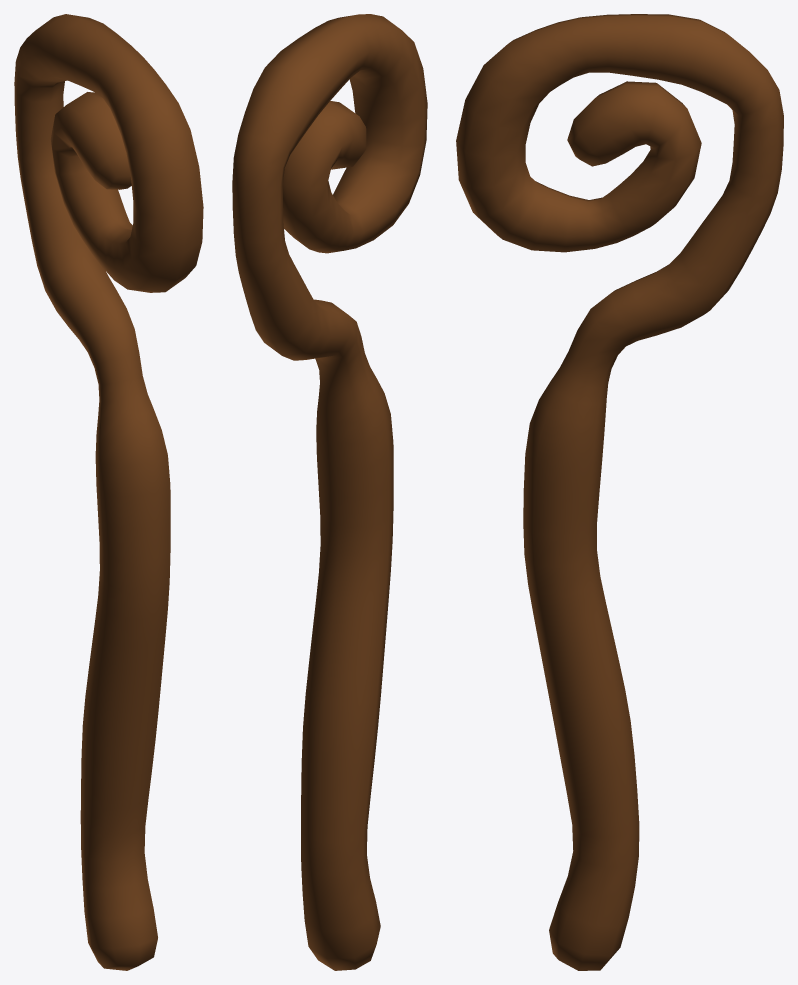
The model's file is staff.gltf.
3 views of the same model, side by side, from view 1: azimuth 30°, elevation 25°; view 2: azimuth 150°, elevation 25°; view 3: azimuth 270°, elevation 25° (orthographic). The views are drawn at different scales.
Parts seen in each view (by area): view 1: Staff; view 2: Staff; view 3: Staff.
Boxes of the visible parts, x1,y1,x2,y2 form: Staff: (14, 14, 203, 970); Staff: (232, 14, 427, 970); Staff: (456, 14, 783, 970).
Bounding box in the file's own units: 0.2137 × 2.89 × 0.9031.
